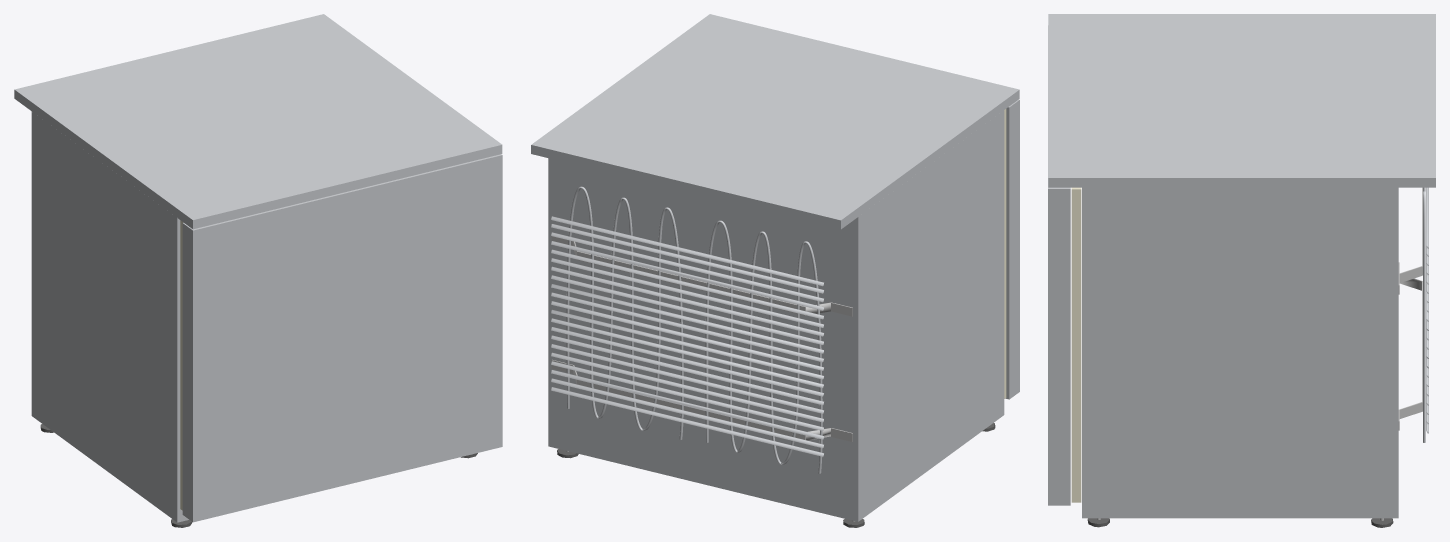
Rendered from sh-contrib-frigo.glb.
3 renders of one model, left to right at view 1: azimuth 30°, elevation 25°; view 2: azimuth 150°, elevation 25°; view 3: azimuth 270°, elevation 25°, orthographic. The views are drawn at different scales.
Visible parts, largest first — view 1: Cube_1_1, Cube_4_1_12; view 2: Cube_1_1, Cylinder_1_1_5, Cube_4_1_12; view 3: Cube_1_1, Cube_4_1_12, Cylinder_1_1_5.
Boxes of the visible parts, x1,y1,x2,y2 form: Cube_1_1: (14,14,502,522); Cube_4_1_12: (180,220,183,510); Cube_1_1: (531,14,1019,521); Cylinder_1_1_5: (551,236,854,521); Cube_4_1_12: (1004,109,1006,398); Cube_1_1: (1048,14,1435,518); Cube_4_1_12: (1071,187,1081,502); Cylinder_1_1_5: (1097,187,1422,520).
Size of the model in its own units: 1 by 1 by 1.
